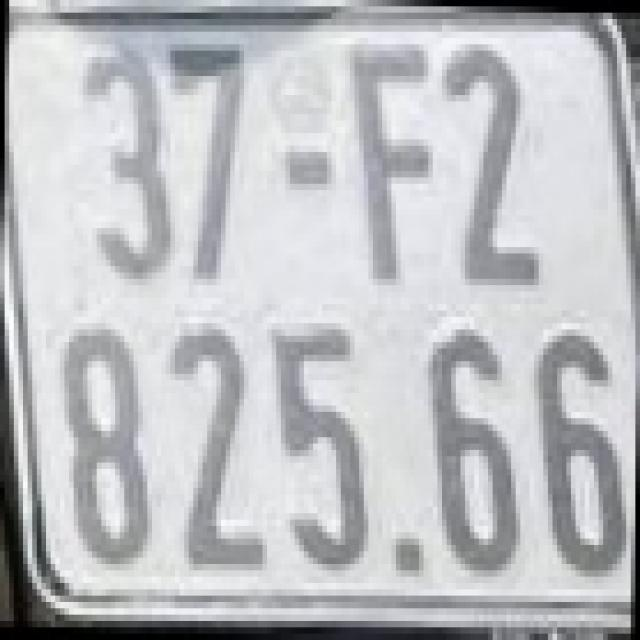2: (166, 316, 267, 576), (442, 38, 548, 285)
3: (74, 44, 175, 279)
5: (272, 317, 378, 570)
6: (424, 323, 520, 570), (534, 323, 626, 577)
7: (165, 38, 248, 285)
8: (60, 317, 156, 570)
F: (346, 32, 438, 285)
